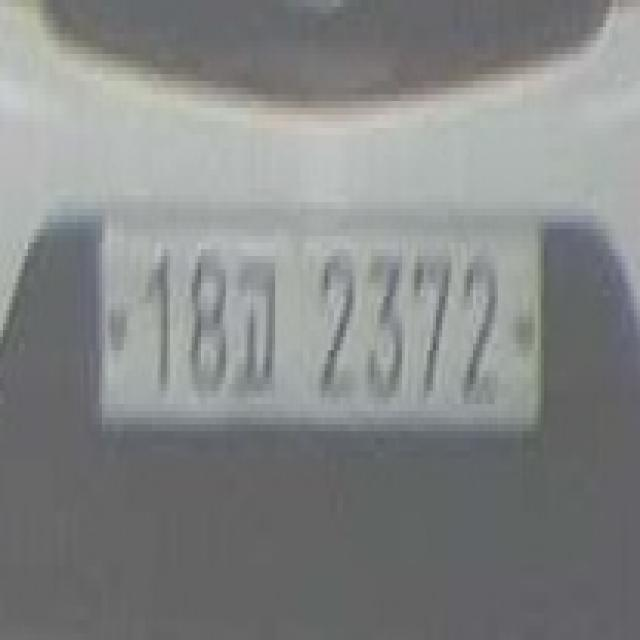1: (139, 235, 176, 418)
2: (312, 242, 359, 411), (458, 249, 507, 411)
3: (359, 242, 405, 411)
7: (408, 249, 458, 404)
8: (182, 236, 235, 404)
go: (232, 243, 287, 404)
license_plate: (86, 202, 554, 458)
